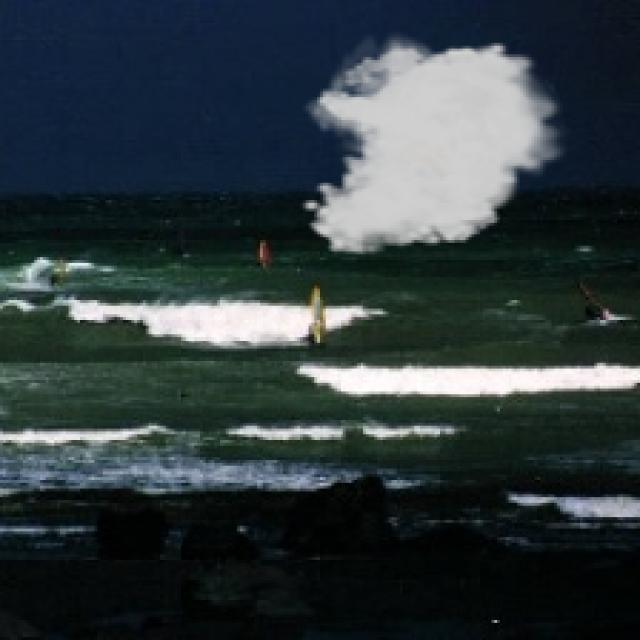Smoke: (299, 29, 572, 258)
